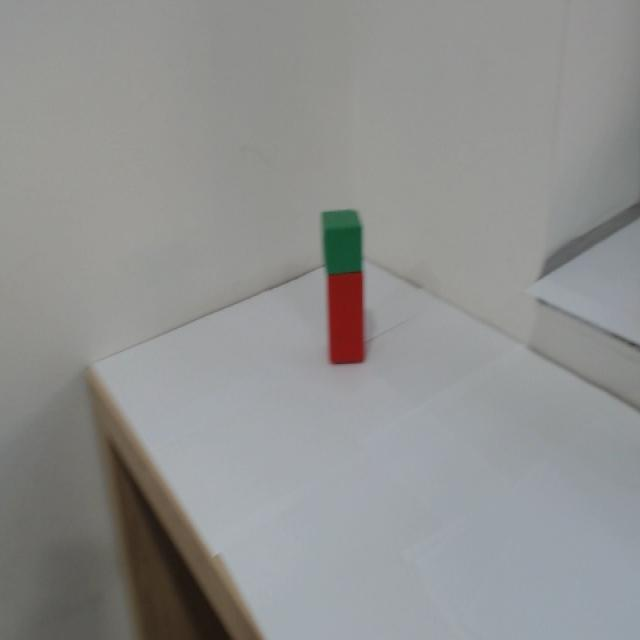cube: (313, 213, 375, 266)
